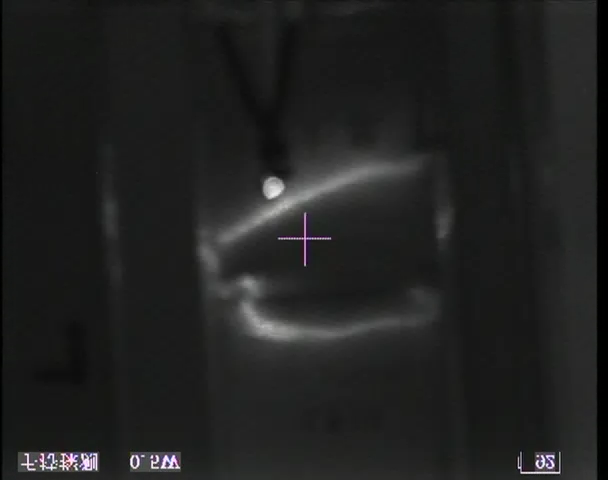my: (261, 174, 287, 201)
